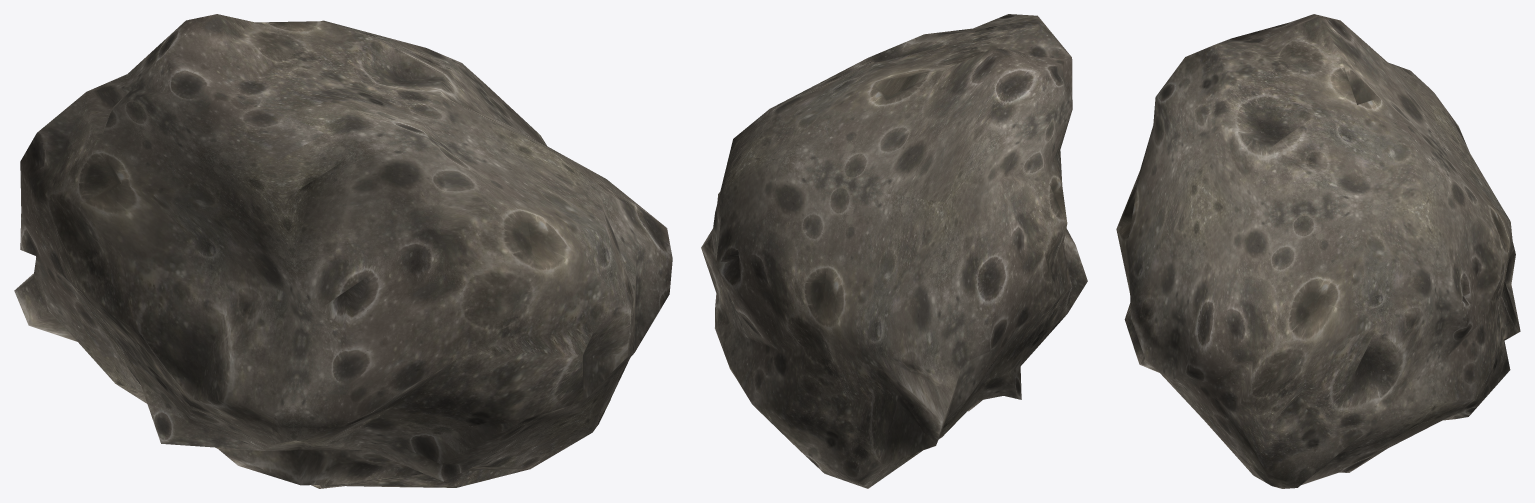
The model's file is Asteroid_01_L2.FBX.
3 renders of one model, left to right at view 1: azimuth 30°, elevation 25°; view 2: azimuth 150°, elevation 25°; view 3: azimuth 270°, elevation 25°, orthographic. The views are drawn at different scales.
Parts seen in each view (by area): view 1: Asteroid; view 2: Asteroid; view 3: Asteroid.
Part boxes in pixels (<box>): Asteroid: <box>14,14,672,488</box>; Asteroid: <box>701,14,1087,488</box>; Asteroid: <box>1116,14,1520,488</box>.
Bounding box in the file's own units: 2.38 × 2.4 × 2.3.
